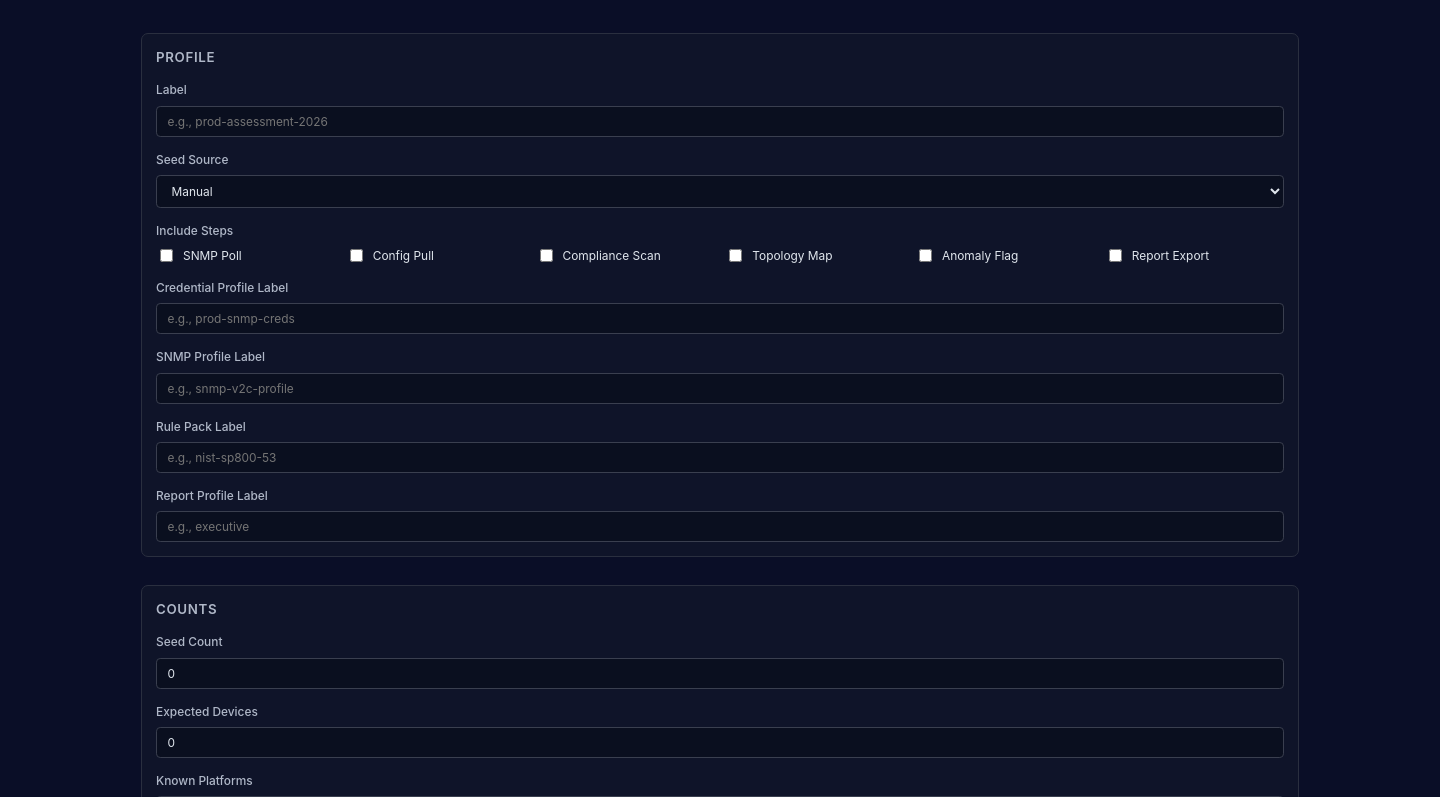
Test: AssessPipelinePlannerPanel — UI › entering seed_count=3 + no includes → next_action ready_for_future_assessment_run
Replace the text in the number field labelled "Seed Count" with "3" at x=720, y=673, box [156,658,1284,688]
(page scrolled)
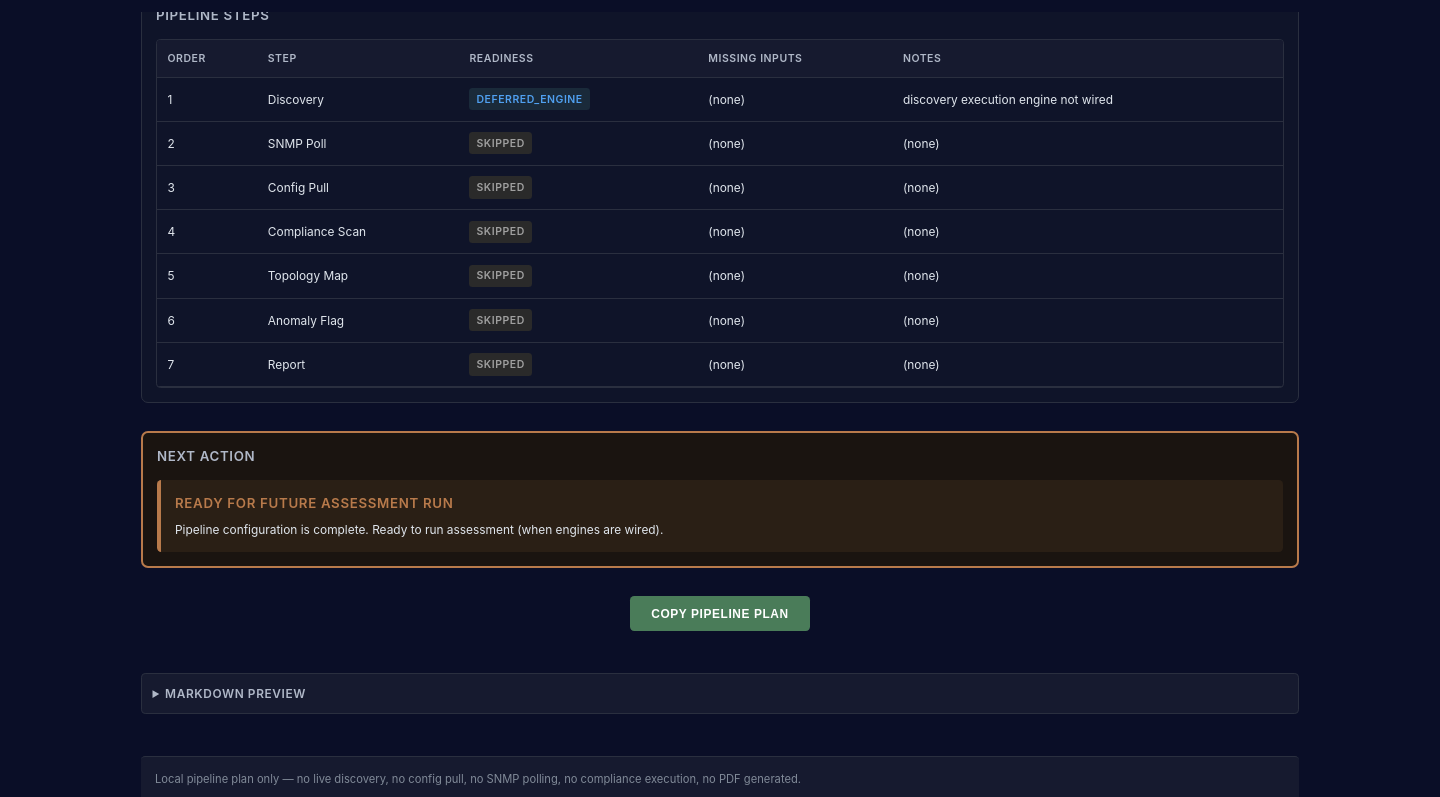
Result: the text "READY FOR FUTURE ASSESSMENT RUN" is shown at [175,495,454,511]
